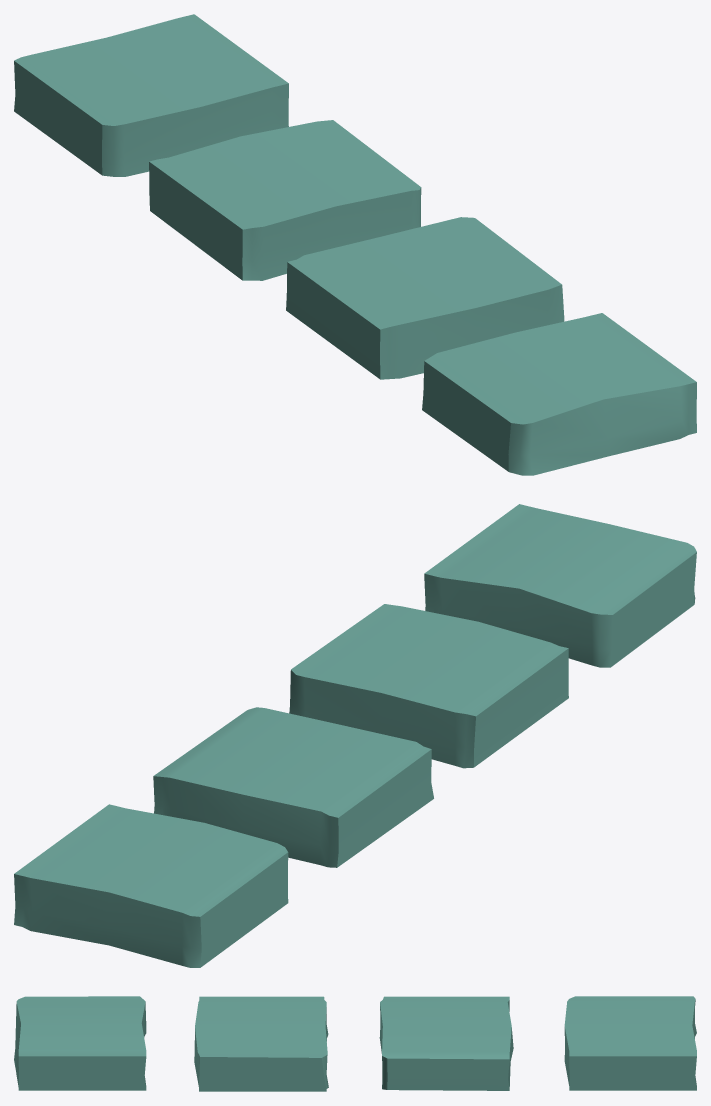
The model's file is ConcreteBricks_V2.fbx.
3 views of the same model, one above another, from view 1: azimuth 30°, elevation 25°; view 2: azimuth 150°, elevation 25°; view 3: azimuth 270°, elevation 25° (orthographic). The views are drawn at different scales.
Visible parts, largest first — view 1: ConcreteBrick4_V2, ConcreteBrick1_V2, ConcreteBrick3_V2, ConcreteBrick2_V2; view 2: ConcreteBrick1_V2, ConcreteBrick3_V2, ConcreteBrick2_V2, ConcreteBrick4_V2; view 3: ConcreteBrick3_V2, ConcreteBrick1_V2, ConcreteBrick2_V2, ConcreteBrick4_V2.
Boxes of the visible parts, box(x1,y1,x2,y2) form: ConcreteBrick4_V2: box(422, 313, 696, 475); ConcreteBrick1_V2: box(14, 14, 288, 176); ConcreteBrick3_V2: box(286, 217, 564, 379); ConcreteBrick2_V2: box(149, 120, 421, 280); ConcreteBrick1_V2: box(14, 804, 288, 967); ConcreteBrick3_V2: box(289, 604, 568, 768); ConcreteBrick2_V2: box(153, 707, 433, 867); ConcreteBrick4_V2: box(424, 504, 696, 667); ConcreteBrick3_V2: box(194, 996, 328, 1091); ConcreteBrick1_V2: box(564, 996, 696, 1090); ConcreteBrick2_V2: box(379, 996, 513, 1090); ConcreteBrick4_V2: box(14, 996, 146, 1090).
Size of the model in its own units: 159 by 48.1 by 744.
